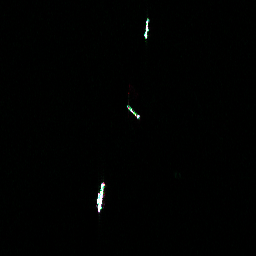ship: (94, 179, 106, 213), (124, 101, 143, 120), (141, 17, 151, 39)
